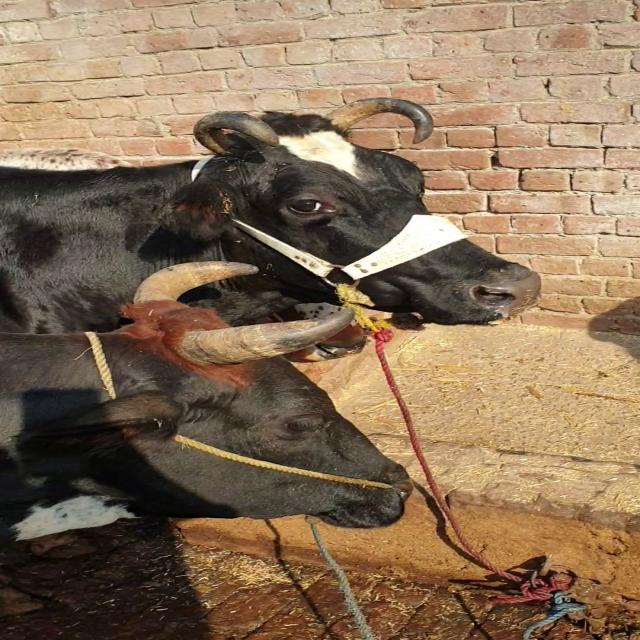cowFace: (213, 79, 591, 323), (117, 320, 465, 533)
